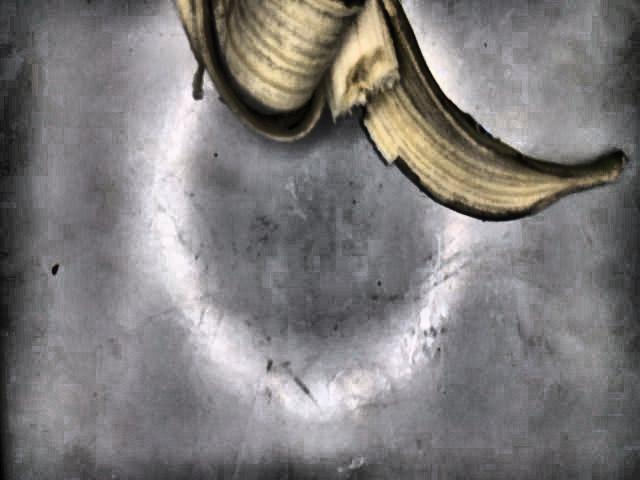Almennt: (177, 0, 627, 219)
